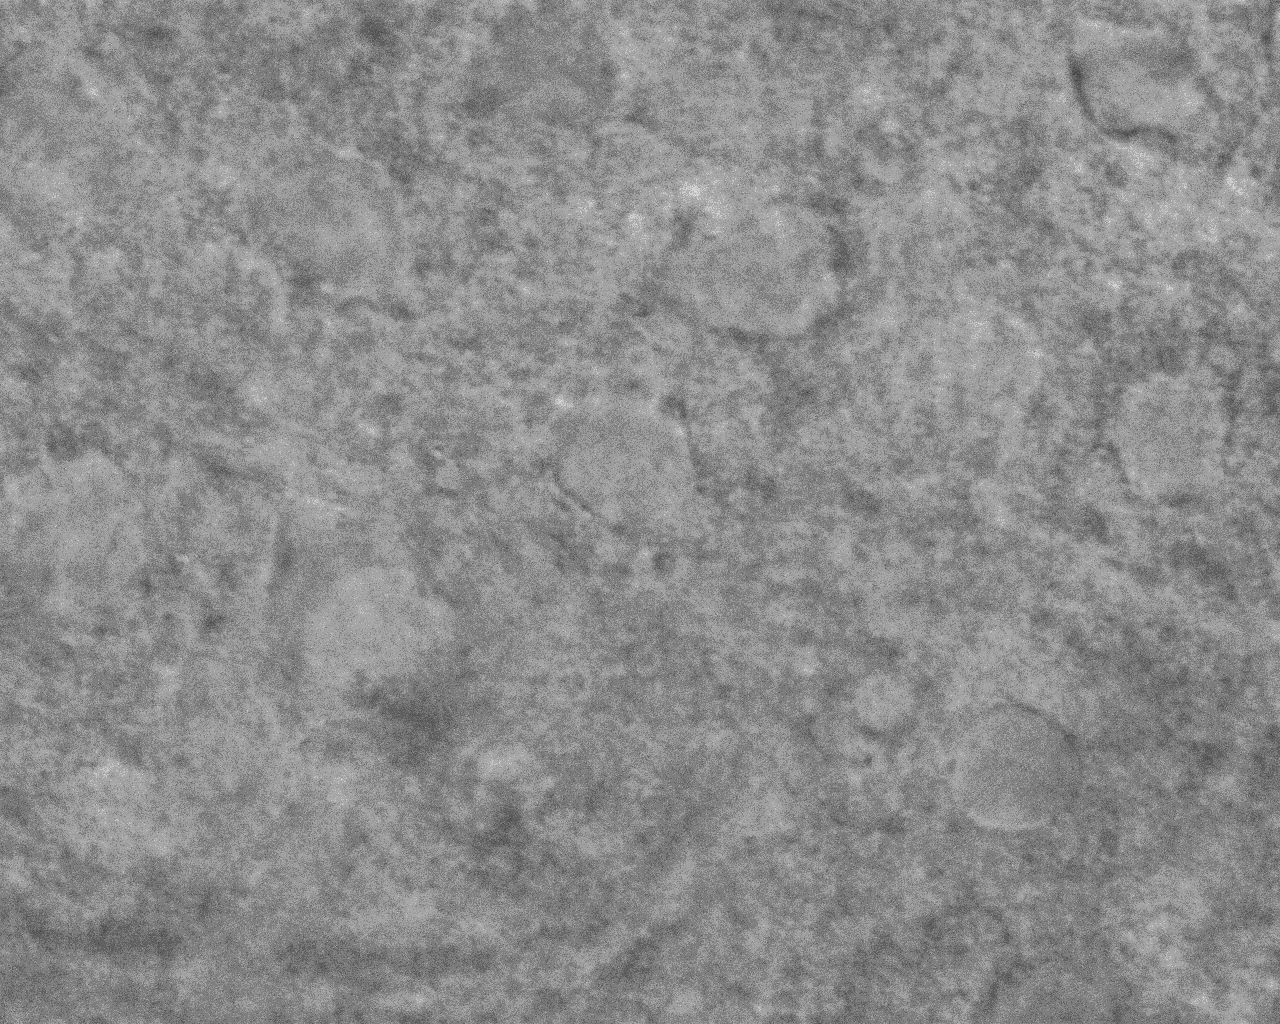neuron: (654, 195, 874, 351), (530, 385, 707, 553), (1081, 355, 1260, 517), (1055, 2, 1219, 155), (930, 700, 1103, 843)
